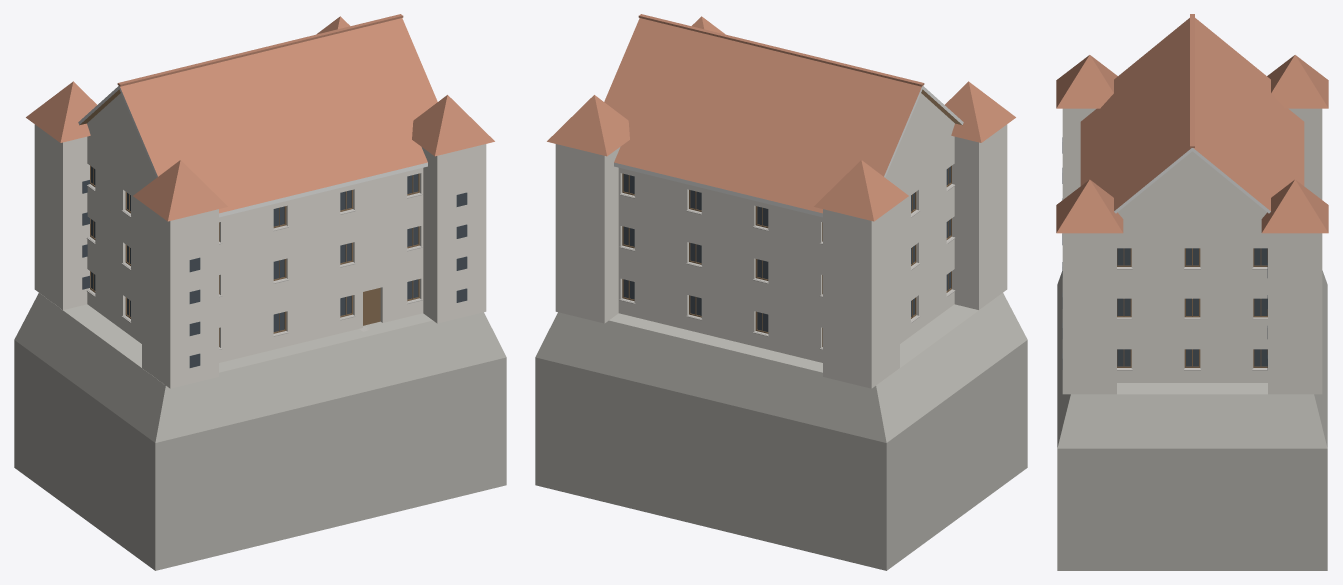
File: nordic_castle_3_m.glb
3 views of the same model, side by side, from view 1: azimuth 30°, elevation 25°; view 2: azimuth 150°, elevation 25°; view 3: azimuth 270°, elevation 25° (orthographic). The views are drawn at different scales.
Visible parts, largest first — view 1: nordic_castle_3_m; view 2: nordic_castle_3_m; view 3: nordic_castle_3_m.
Boxes of the visible parts, box(x1,y1,x2,y2) form: nordic_castle_3_m: box(14, 14, 506, 570); nordic_castle_3_m: box(535, 14, 1027, 570); nordic_castle_3_m: box(1056, 14, 1328, 570).
Bounding box in the file's own units: 23 × 26.71 × 16.13.
